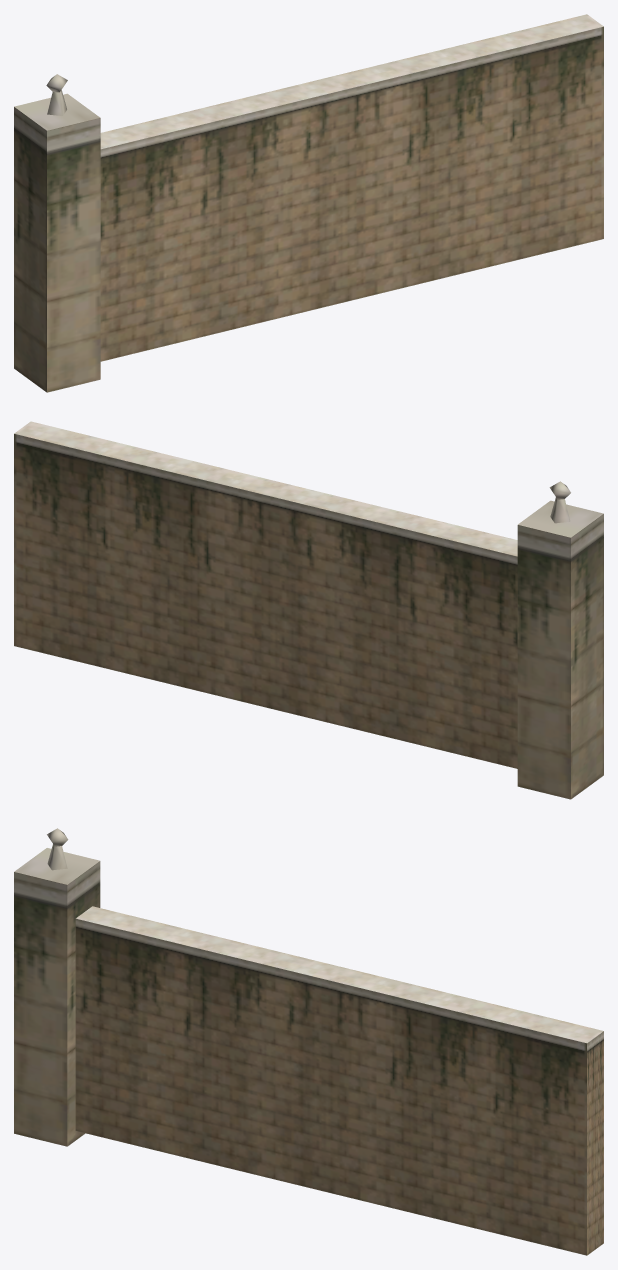
Rendered from thm_nboo_thed_imprv_wall_s01_l2.fbx.
3 renders of one model, top to bottom at view 1: azimuth 30°, elevation 25°; view 2: azimuth 150°, elevation 25°; view 3: azimuth 330°, elevation 25°, orthographic.
Visible parts, largest first — view 1: mesh_node; view 2: mesh_node; view 3: mesh_node.
Boxes of the visible parts, x1,y1,x2,y2 form: mesh_node: (14, 14, 603, 392); mesh_node: (14, 421, 603, 799); mesh_node: (14, 828, 603, 1255).
Size of the model in its own units: 21.46 by 10.88 by 2.17.
